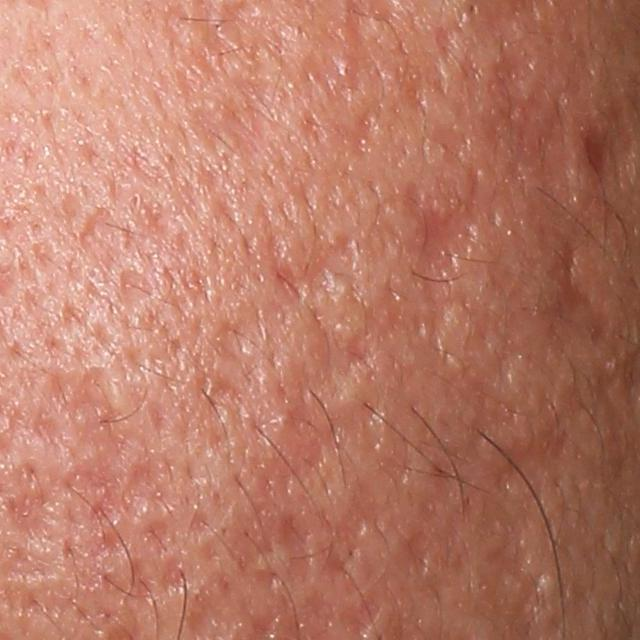atrophic_scar: (234, 403, 391, 564), (408, 164, 492, 356), (63, 364, 129, 526), (551, 235, 617, 354), (487, 423, 611, 486), (266, 234, 363, 309), (294, 323, 379, 403), (187, 98, 270, 166), (585, 95, 637, 189), (214, 302, 278, 365), (119, 460, 171, 521), (3, 462, 47, 534), (101, 555, 158, 610), (485, 44, 534, 104), (340, 14, 375, 92), (189, 367, 243, 415), (277, 518, 312, 587), (139, 512, 185, 562), (338, 594, 385, 638), (405, 527, 437, 586), (117, 268, 157, 310), (77, 205, 113, 250), (437, 18, 464, 72), (159, 554, 194, 594), (353, 112, 380, 159)
